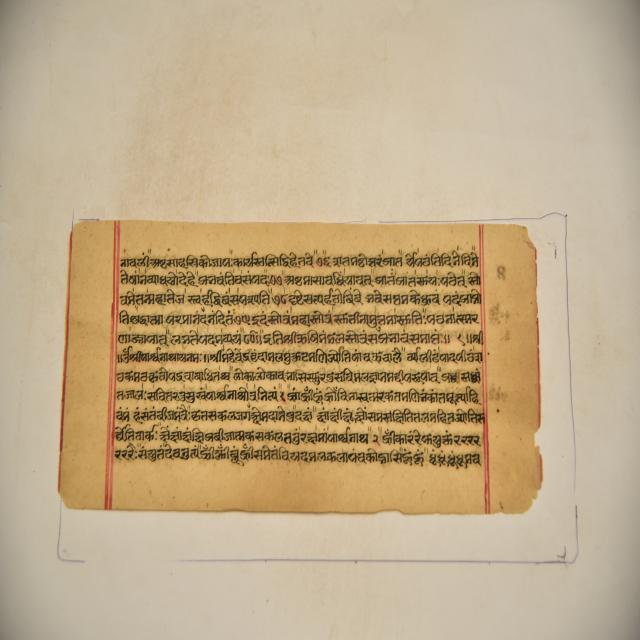text_paragraph: (62, 220, 539, 504)
